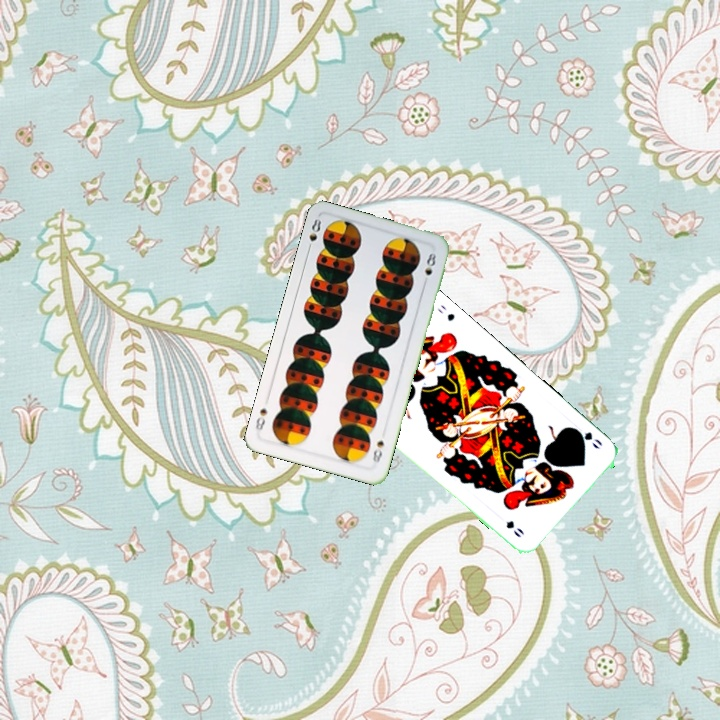GO: (572, 425, 605, 452)
S8: (303, 215, 324, 254), (368, 436, 387, 465)
